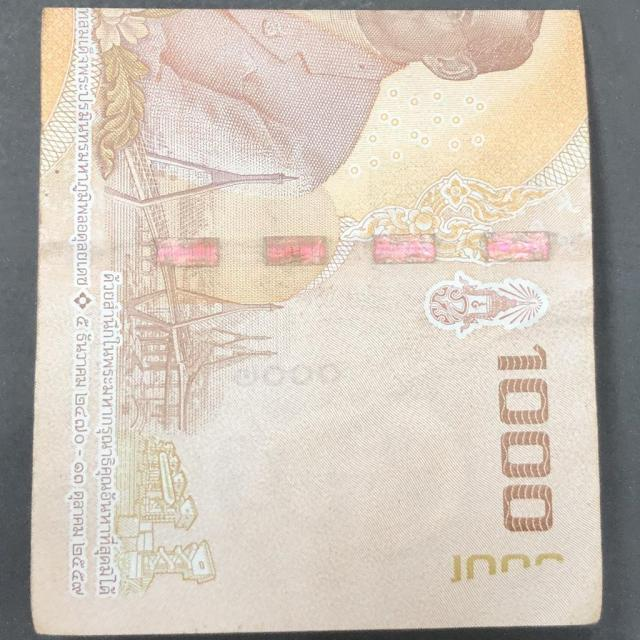THAI1000: (30, 8, 606, 638)
